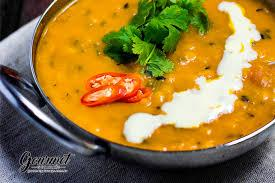Dhal Curry: (42, 2, 275, 146)
